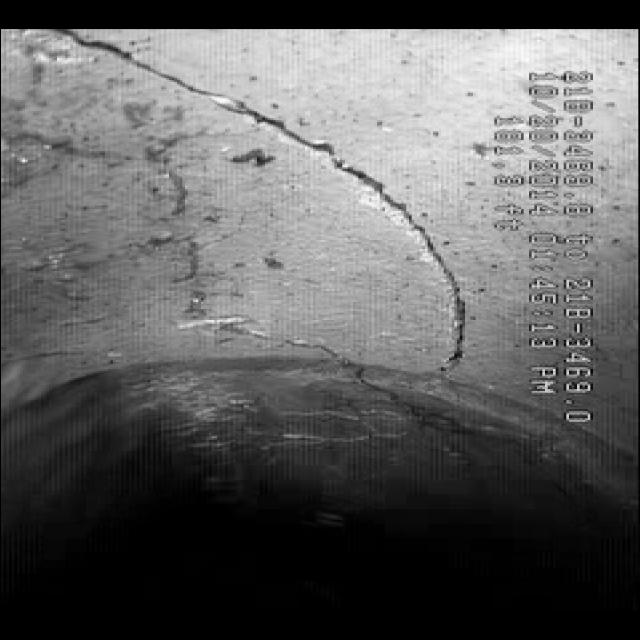Crack: (59, 44, 471, 360)
